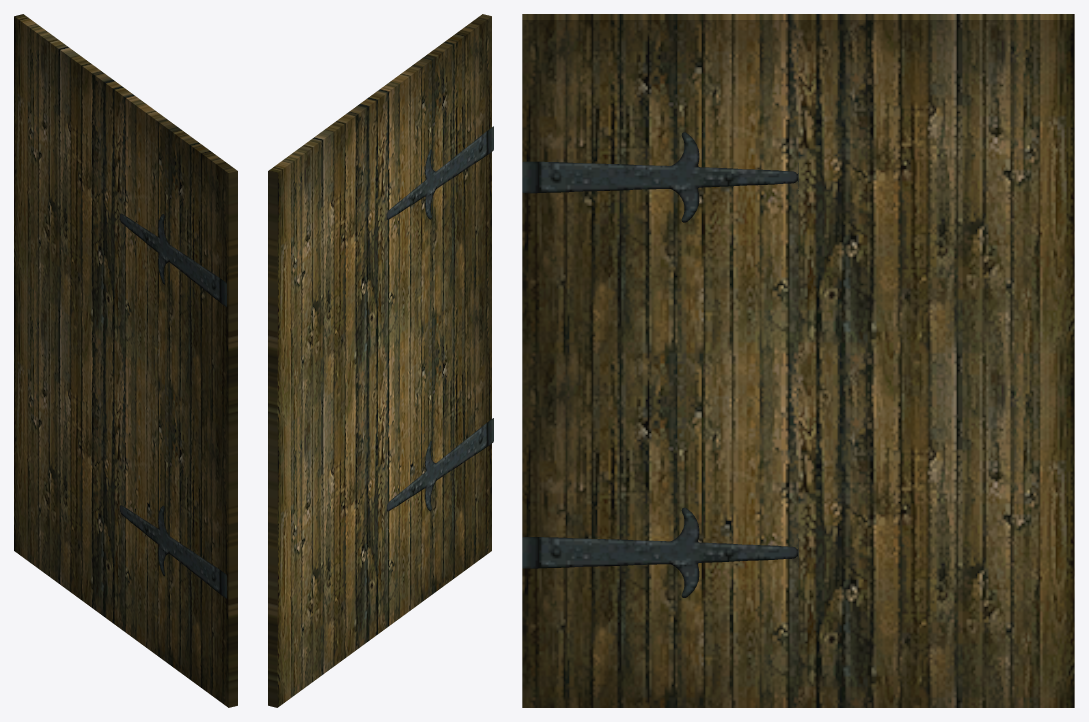
File: M12_LARGE_DOUBLEDOOR_LEFT.glb
3 renders of one model, left to right at view 1: azimuth 30°, elevation 25°; view 2: azimuth 150°, elevation 25°; view 3: azimuth 270°, elevation 25°, orthographic. The views are drawn at different scales.
Visible parts, largest first — view 1: M12_LARGE_DOUBLEDOOR_LEFT; view 2: M12_LARGE_DOUBLEDOOR_LEFT; view 3: M12_LARGE_DOUBLEDOOR_LEFT.
Part boxes in pixels (x1,y1,x2,y2): M12_LARGE_DOUBLEDOOR_LEFT: [14, 14, 237, 707]; M12_LARGE_DOUBLEDOOR_LEFT: [268, 14, 493, 707]; M12_LARGE_DOUBLEDOOR_LEFT: [522, 14, 1074, 707].
Bounding box in the file's own units: 0.07 × 2.75 × 2.
2 materials, 2 textured.
